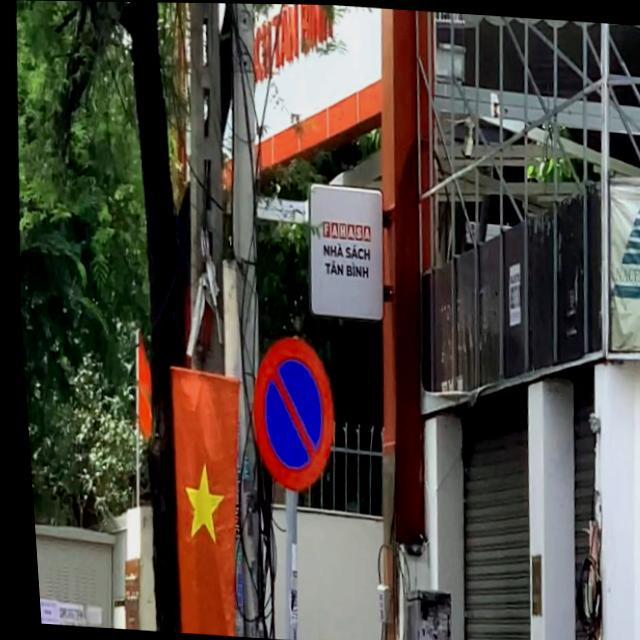Cam do xe: (241, 334, 338, 493)
